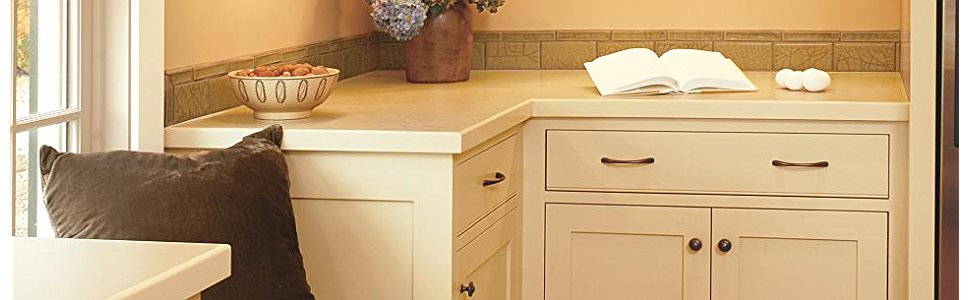cabinet door: (553, 131, 890, 198), (709, 206, 887, 300), (542, 205, 703, 298), (463, 222, 531, 300), (458, 151, 521, 206)
handle: (602, 155, 668, 166), (477, 171, 511, 190), (774, 160, 835, 170), (457, 278, 483, 296), (715, 234, 737, 255), (685, 237, 706, 253)
